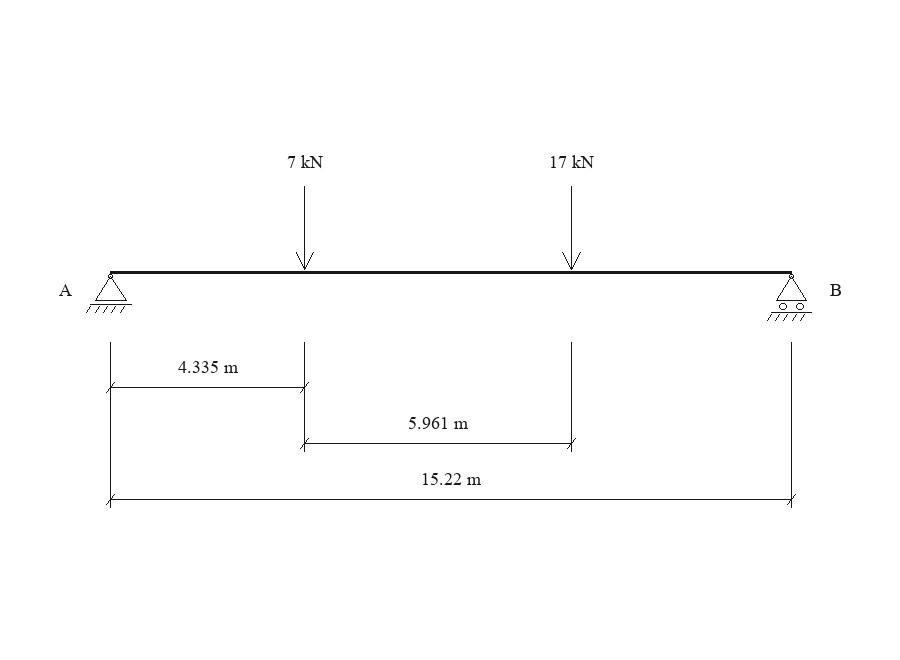pin_support: (86, 274, 132, 313)
point_load: (562, 186, 581, 270), (296, 186, 314, 270)
roller_support: (767, 274, 812, 321)
